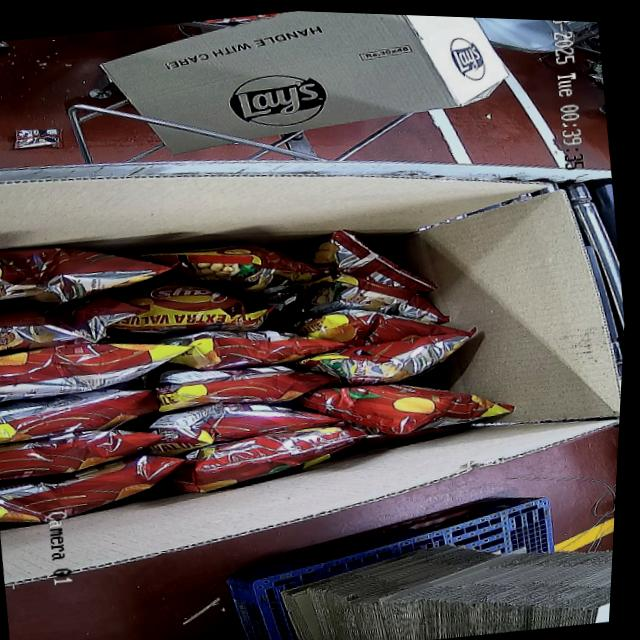MASALA: (0, 181, 533, 547)
